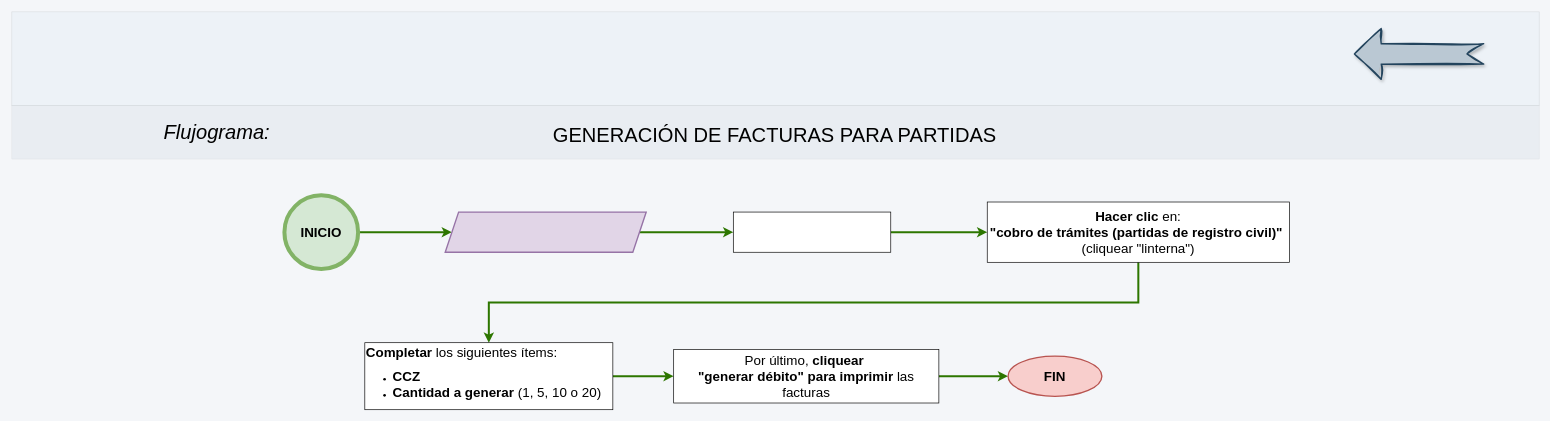
Some shapes in this 1550 by 421 pixel diagram are drawn without their labels. The shapes that lost their labels are listed below. From the top down, each one's centre as x and y in pixels, then its label:
[1419,54]: PARTIDAS
[545,232]: INGRESAR AL SISTEMA: GIC
[812,231]: Ingresar al ítem "facturación"
